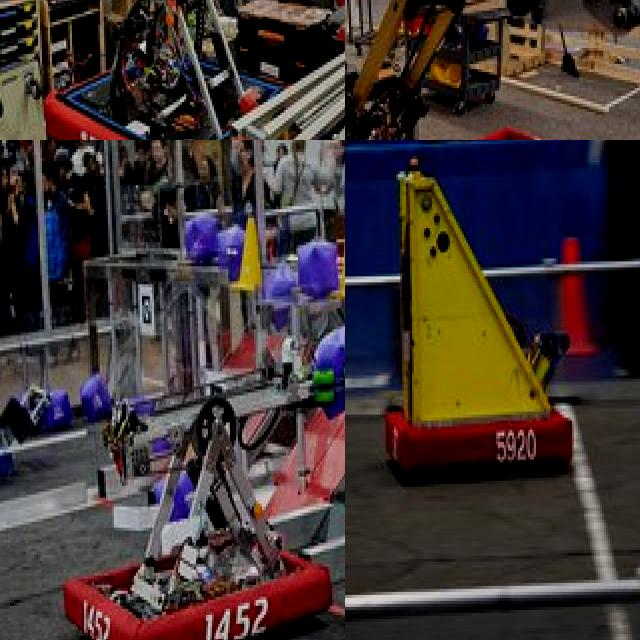FRC-Robots: (345, 140, 594, 517), (61, 331, 345, 640), (44, 0, 308, 140), (345, 0, 484, 140), (461, 90, 523, 140)
